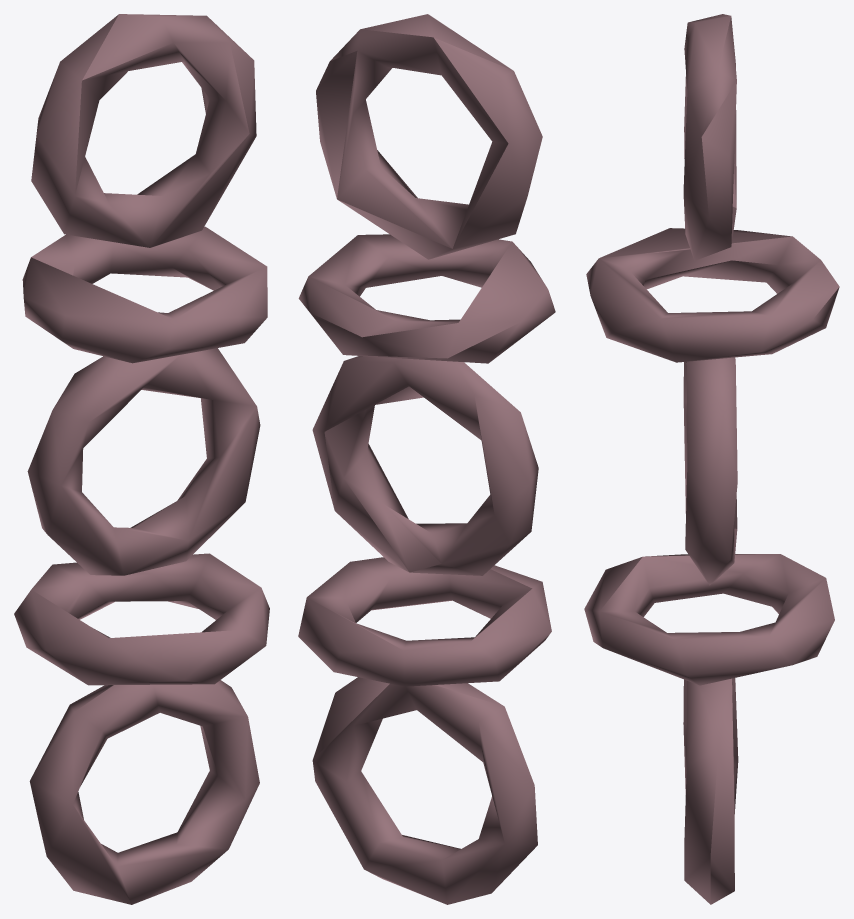
The model's file is SM_Schlachthof_Chain_LOD3.fbx.
3 views of the same model, side by side, from view 1: azimuth 30°, elevation 25°; view 2: azimuth 150°, elevation 25°; view 3: azimuth 270°, elevation 25° (orthographic).
Visible parts, largest first — view 1: SM_Schlachthof_Chain_LOD3; view 2: SM_Schlachthof_Chain_LOD3; view 3: SM_Schlachthof_Chain_LOD3.
Part boxes in pixels (x1,y1,x2,y2): SM_Schlachthof_Chain_LOD3: [14, 14, 269, 904]; SM_Schlachthof_Chain_LOD3: [298, 14, 555, 904]; SM_Schlachthof_Chain_LOD3: [584, 14, 839, 904].
Size of the model in its own units: 0.6153 by 2.26 by 0.6064.
